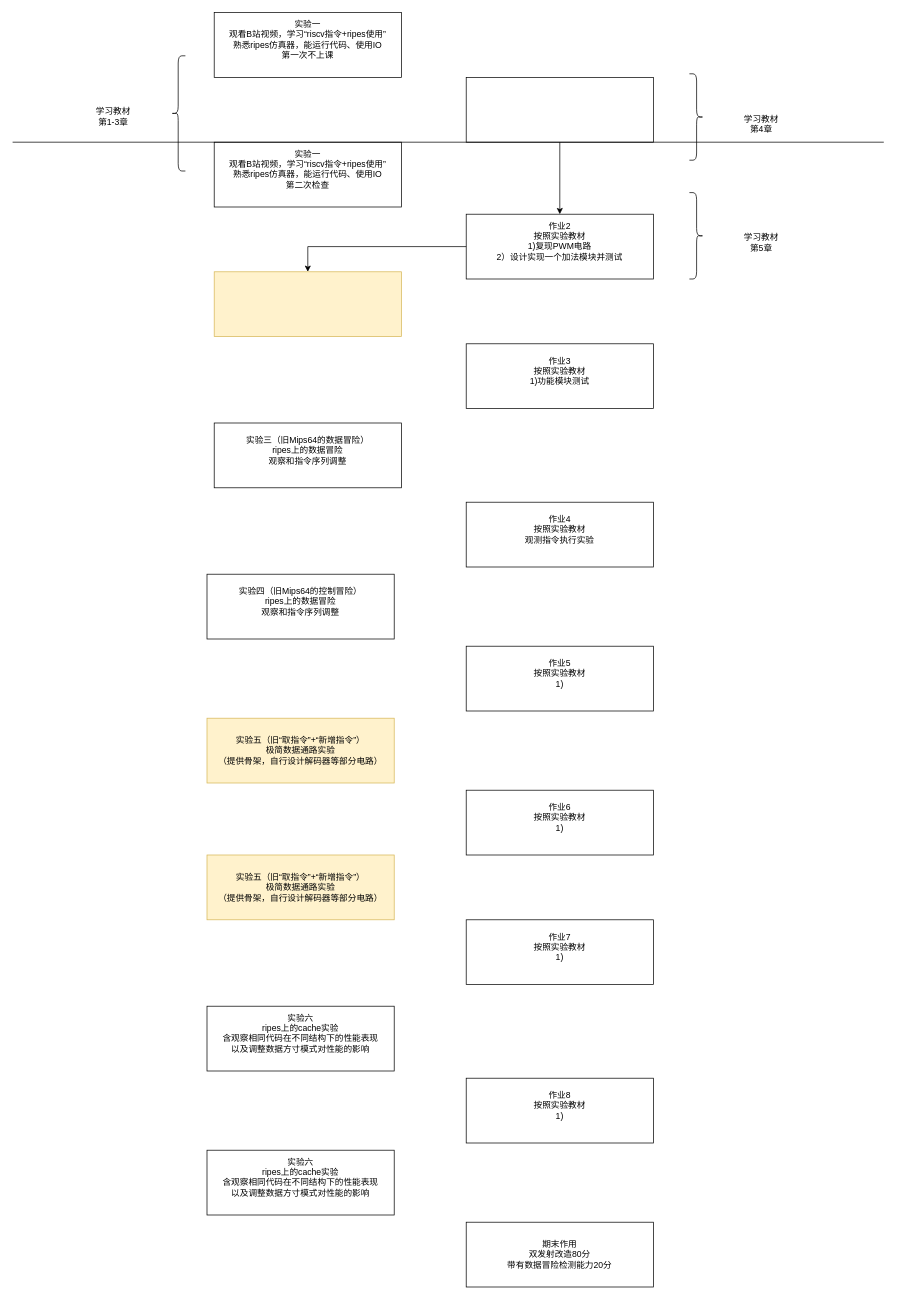
Some shapes in this 897 by 1300 pixel diagram are drawn without their labels. Here are the shapes that lost their labels. From the top down, the centre of each, then its label:
At point 559,109: "作业1 观看B站视频，学习“chisel”视频 安装运行hello、LED灯 提交：1）LED灯仿真波形和解读 2）riscv-mini运行截图".
At point 307,304: "实验二 完成浮点加法器（chisel代码填空）".
